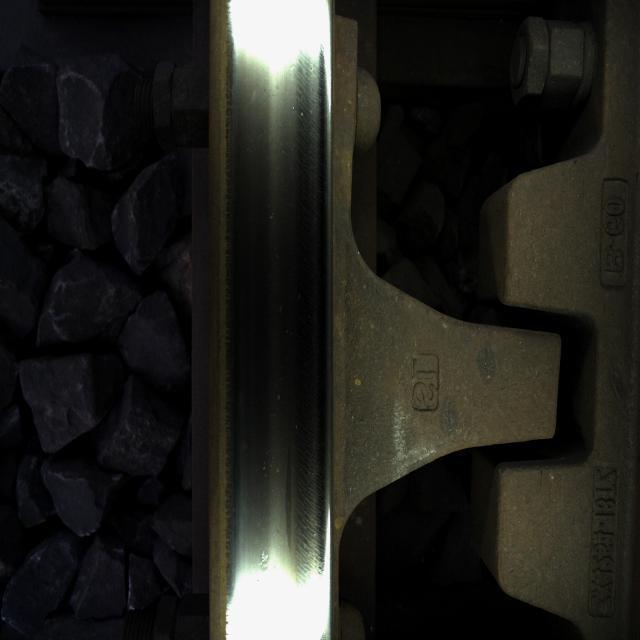break: (230, 41, 332, 584)
